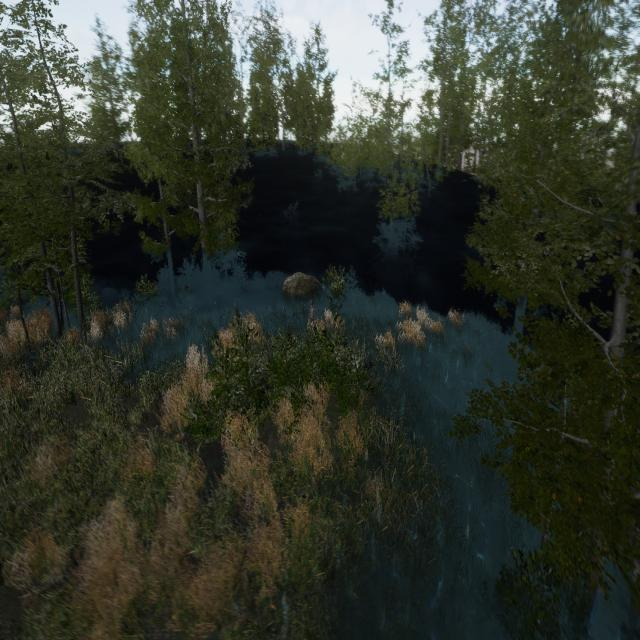Human: (304, 286, 322, 334)
